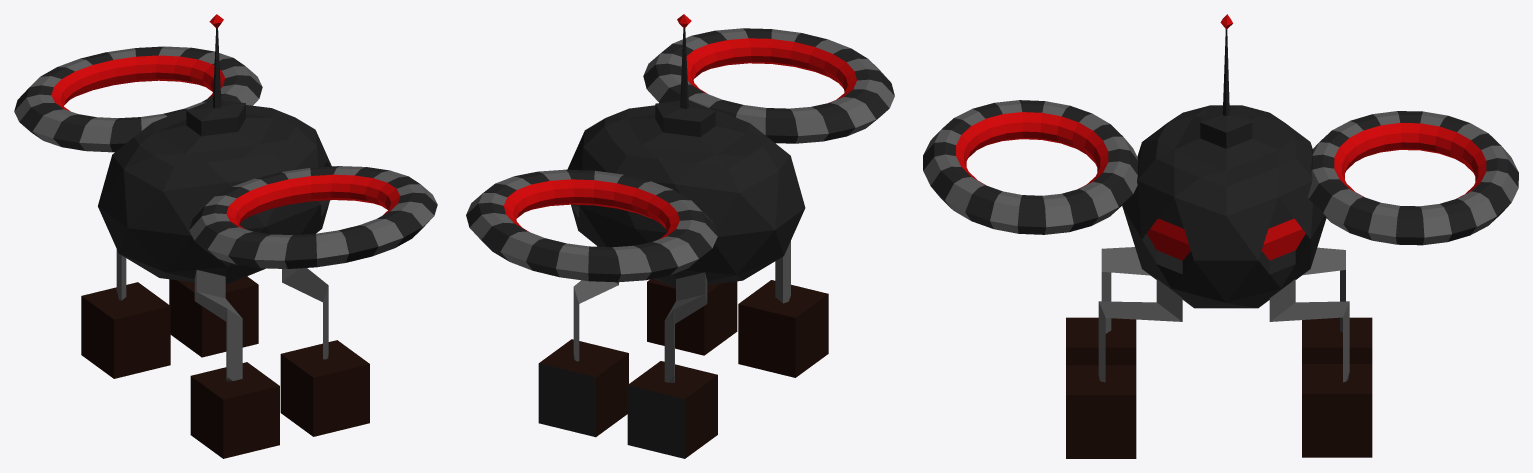
File: Drone 1.fbx
3 renders of one model, left to right at view 1: azimuth 30°, elevation 25°; view 2: azimuth 150°, elevation 25°; view 3: azimuth 270°, elevation 25°, orthographic. The views are drawn at different scales.
Parts seen in each view (by area): view 1: Icosphere (×4); view 2: Icosphere (×4); view 3: Icosphere (×4).
Part boxes in pixels (x1,y1,x2,y2): Icosphere (×4): (14,14,437,458); Icosphere (×4): (466,14,894,458); Icosphere (×4): (923,14,1518,458).
Bounding box in the file's own units: 406 × 644 × 862.
